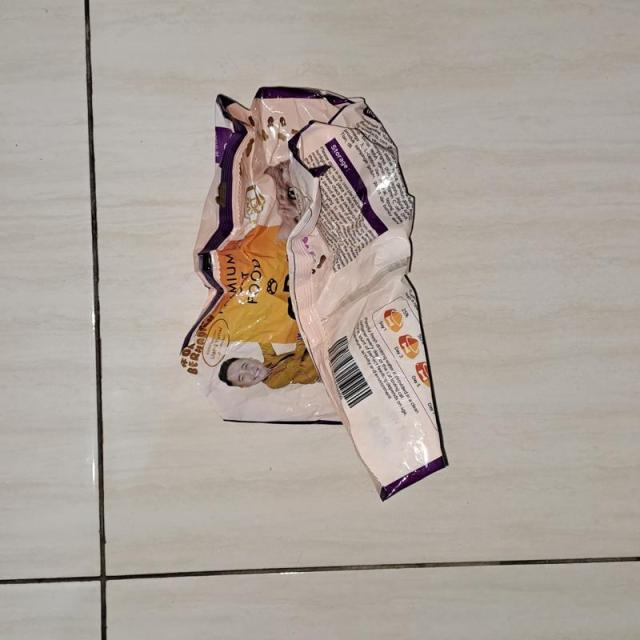Anorganik: (173, 72, 455, 510)
